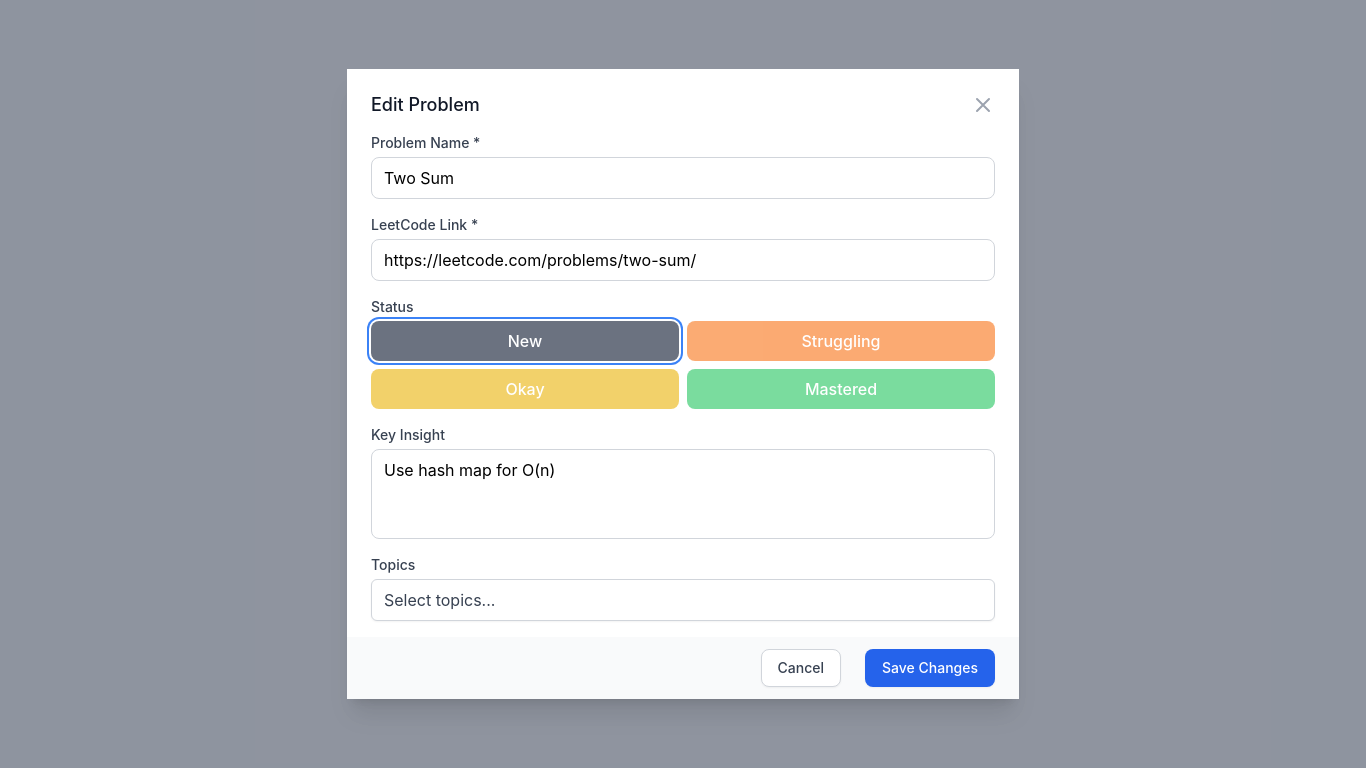
EditProblemModal › Save functionality › should not close modal on save failure
In the field labelled "Problem Name *": (683, 178) [371,157,995,199], type "New Name"
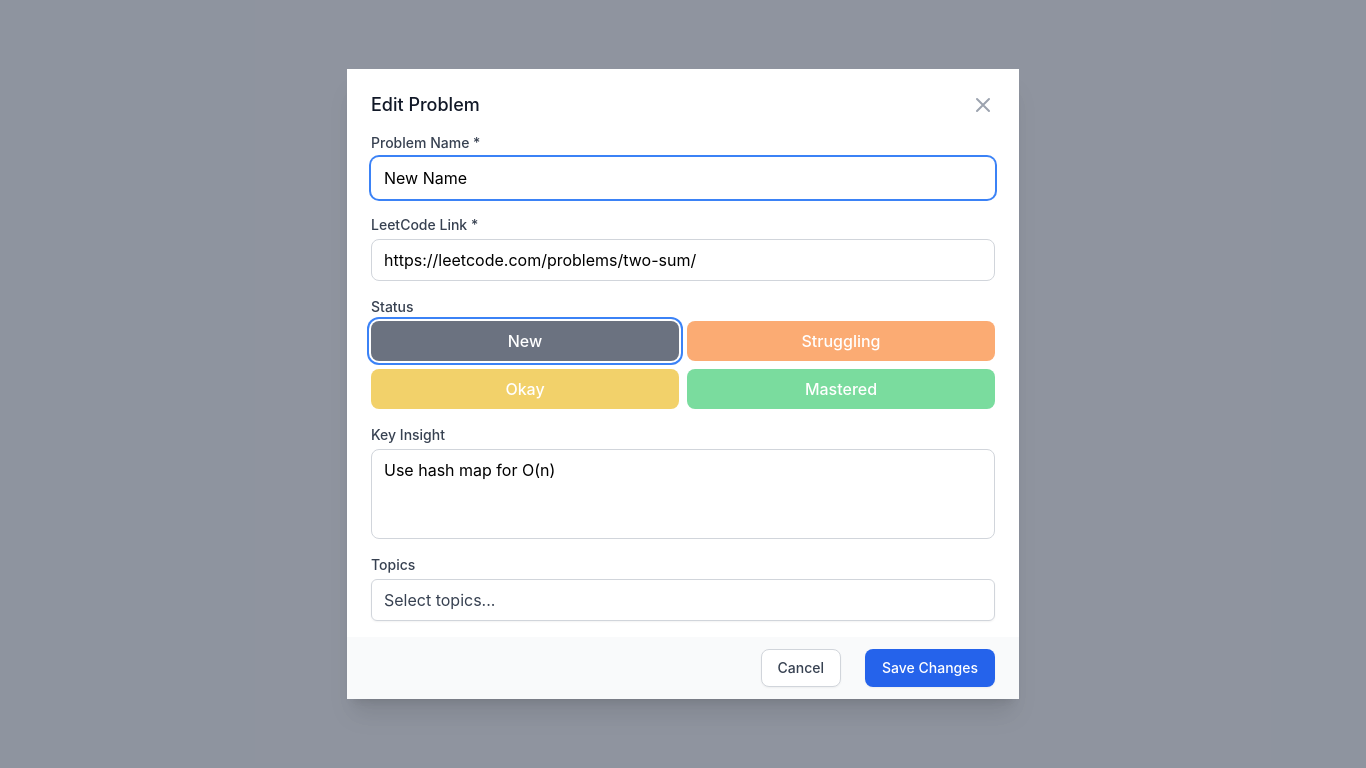
Click the button "Save Changes": (930, 668) [865,649,995,687]
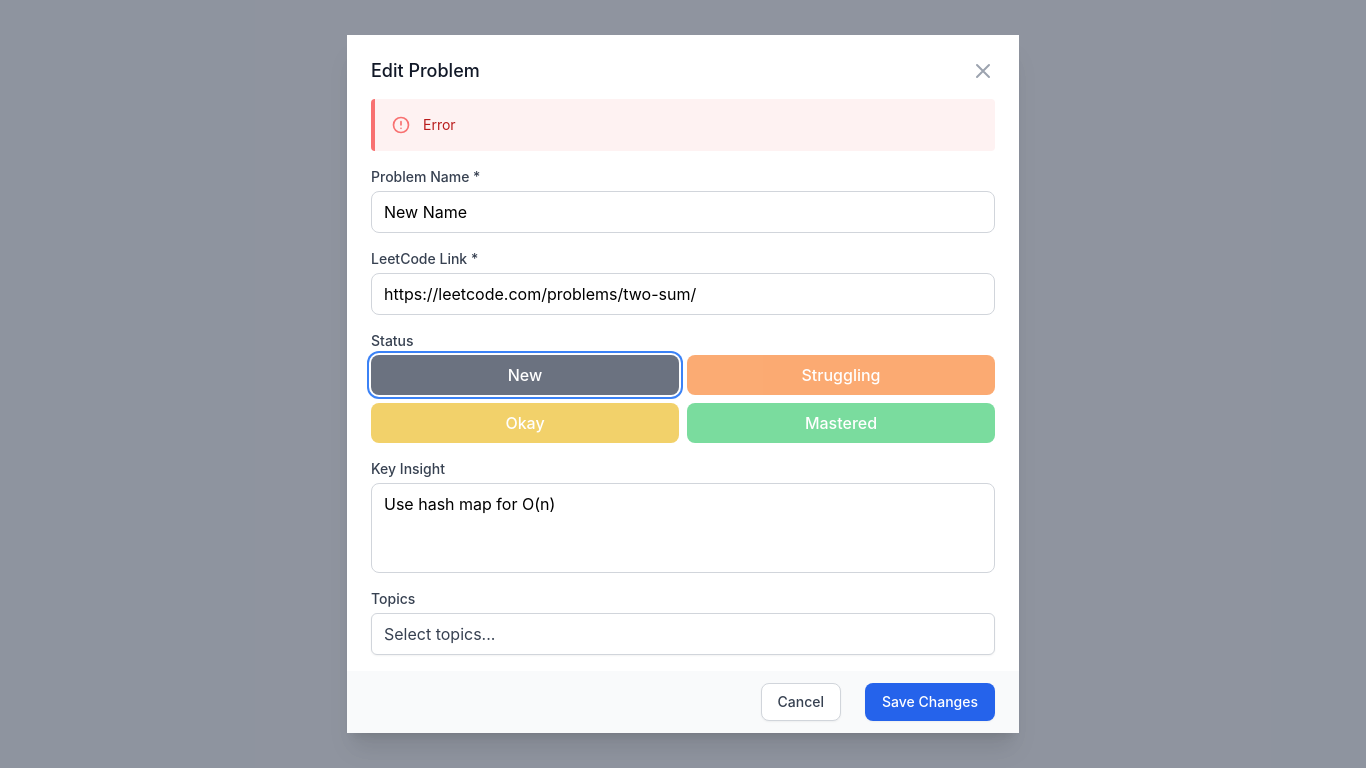
Expected: the text "Error" is shown, [423,115,456,135]
